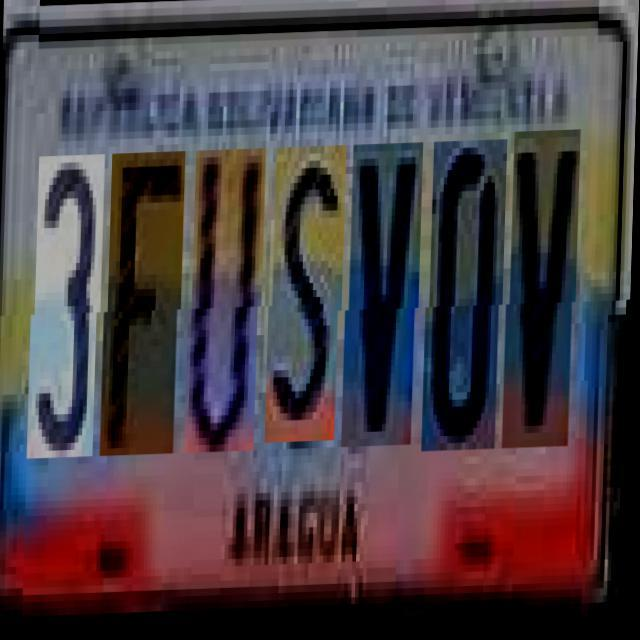0: (428, 143, 508, 454)
3: (34, 155, 106, 459)
F: (106, 152, 186, 456)
S: (272, 148, 348, 445)
U: (190, 150, 268, 454)
V: (508, 134, 582, 452), (348, 146, 424, 450)
